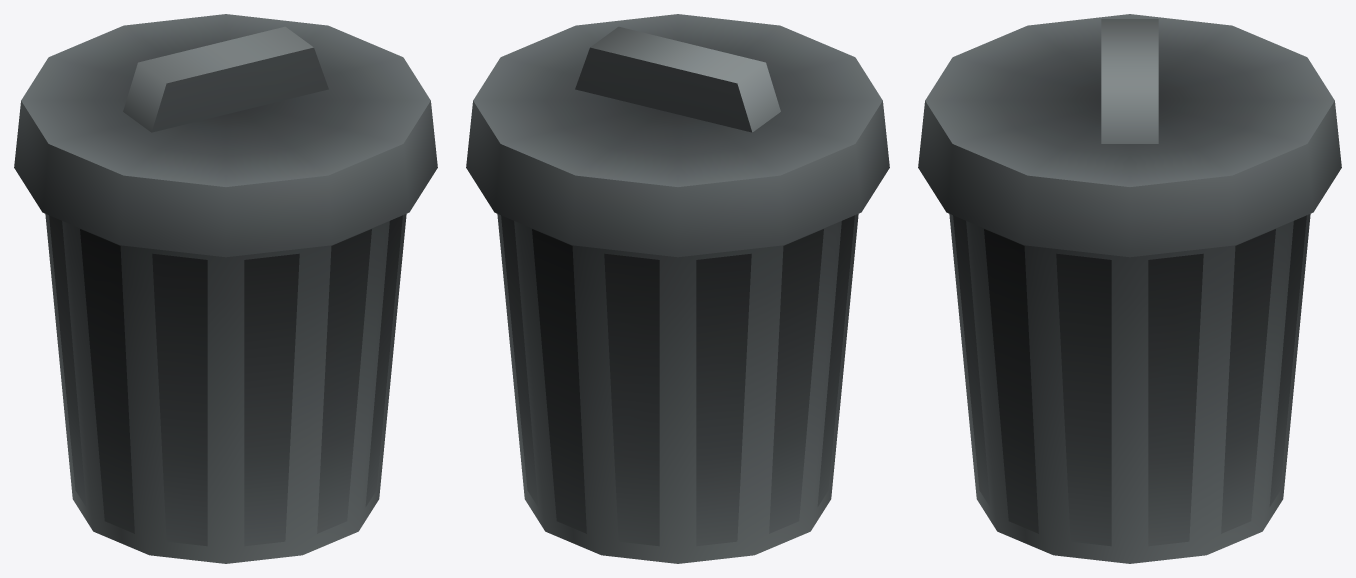
The model's file is Trash_Can_1B.fbx.
The picture shows the model from 3 angles, left to right: view 1: azimuth 30°, elevation 25°; view 2: azimuth 150°, elevation 25°; view 3: azimuth 270°, elevation 25°; orthographic projection.
Parts seen in each view (by area): view 1: Trash_Can_1B; view 2: Trash_Can_1B; view 3: Trash_Can_1B.
Part boxes in pixels (x1,y1,x2,y2): Trash_Can_1B: (14,14,437,563); Trash_Can_1B: (466,14,889,563); Trash_Can_1B: (918,14,1341,563).
Size of the model in its own units: 1.28 by 1.48 by 1.28.
